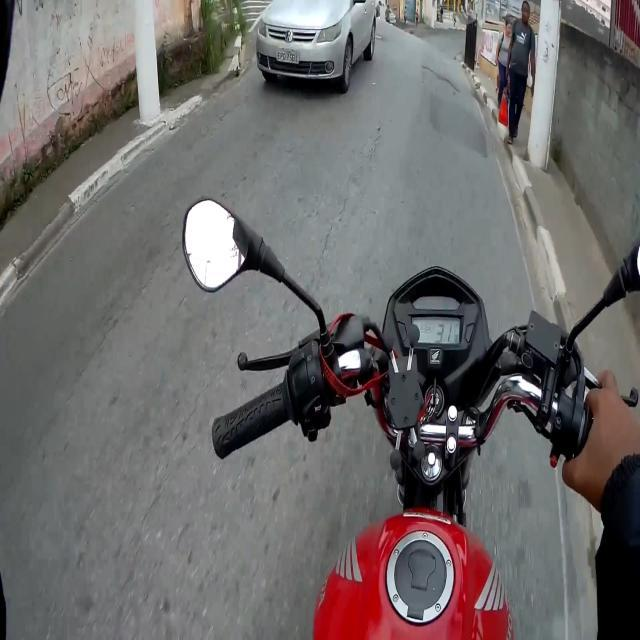Placa_mercosul_carro: (276, 49, 299, 63)
